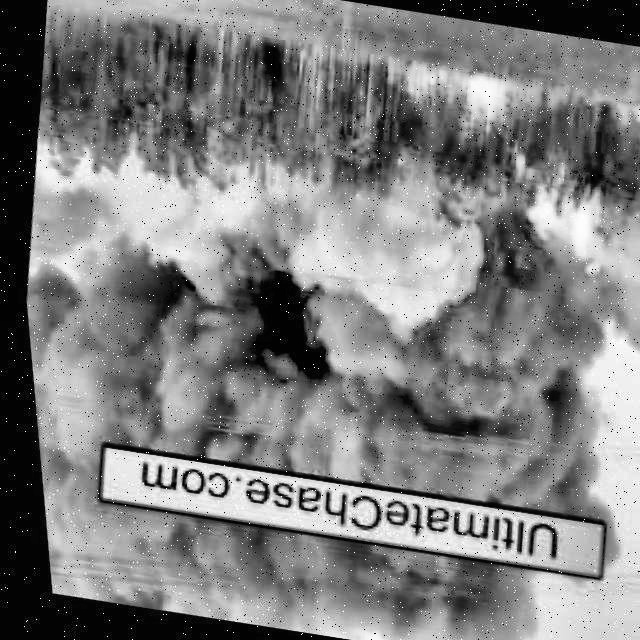Fire: (503, 162, 619, 290), (455, 77, 506, 127), (400, 62, 450, 110), (637, 104, 640, 143)
Smoke: (11, 157, 636, 511), (34, 491, 535, 640)
